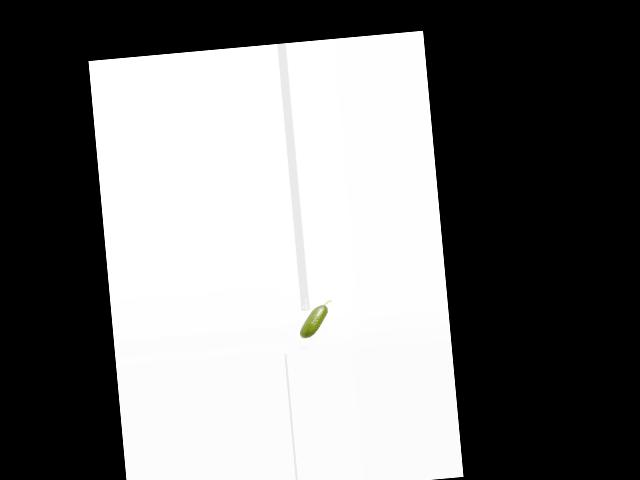cucumber: (296, 299, 334, 337)
